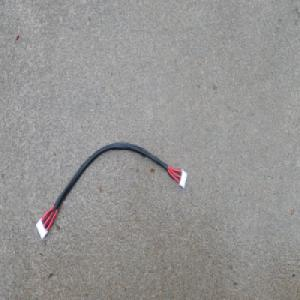Wire: (35, 140, 188, 241)
